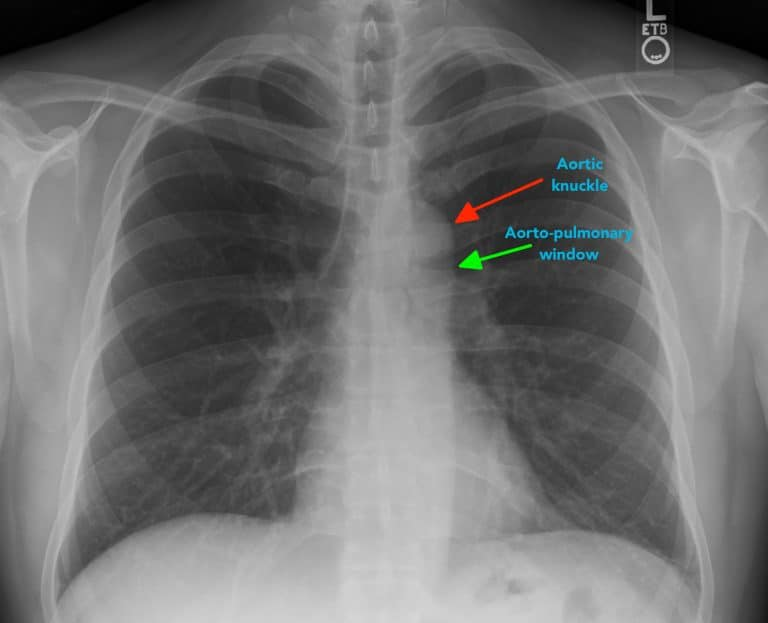telestration: (505, 220, 635, 265), (450, 175, 545, 224), (455, 242, 538, 271), (550, 155, 610, 192)
